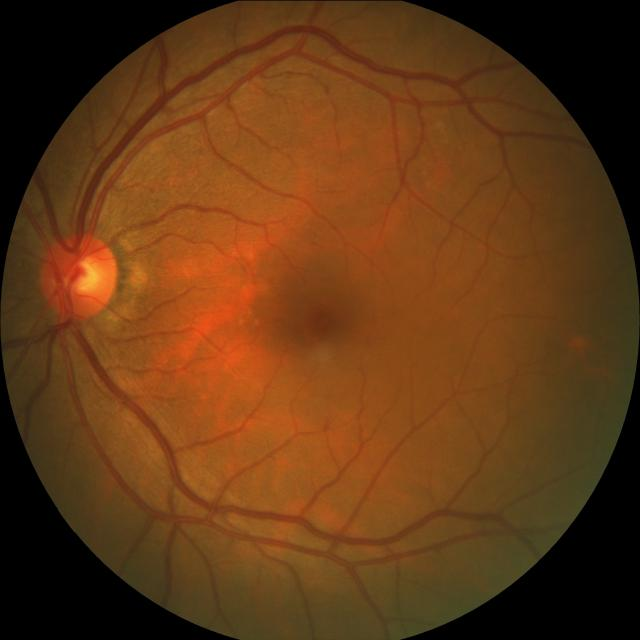OC: (60, 255, 105, 297)
OD: (39, 232, 120, 318)
